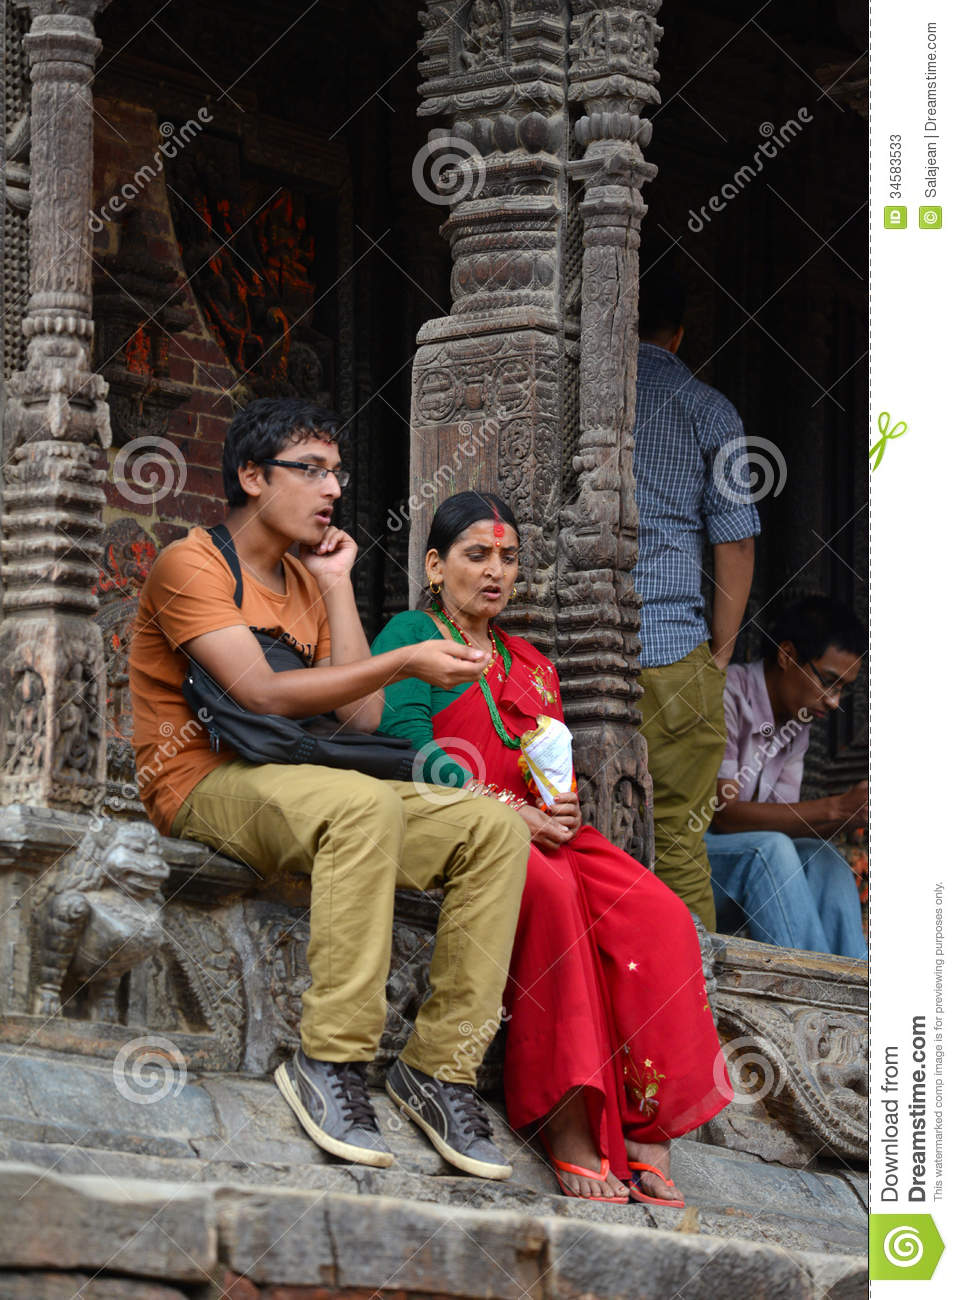human: (120, 376, 520, 1191), (357, 477, 745, 1211)
